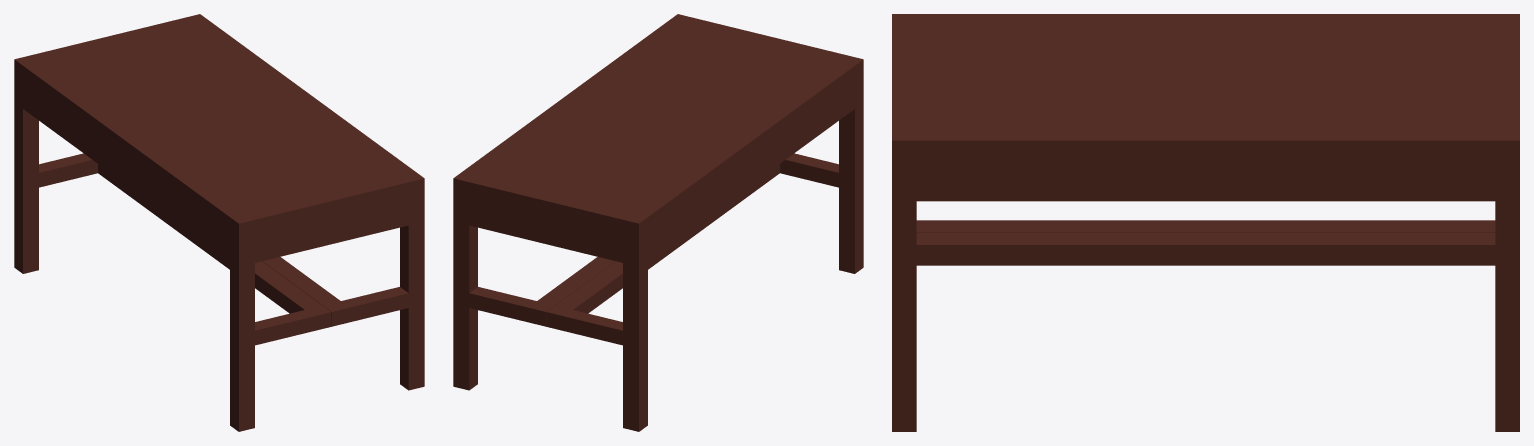
The model's file is mesademadeira.fbx.
3 views of the same model, side by side, from view 1: azimuth 30°, elevation 25°; view 2: azimuth 150°, elevation 25°; view 3: azimuth 270°, elevation 25° (orthographic). The views are drawn at different scales.
Visible parts, largest first — view 1: Cube; view 2: Cube; view 3: Cube.
Boxes of the visible parts, x1,y1,x2,y2 form: Cube: [14, 14, 424, 431]; Cube: [453, 14, 863, 431]; Cube: [892, 14, 1519, 431].
Size of the model in its own units: 263 by 282 by 551.
